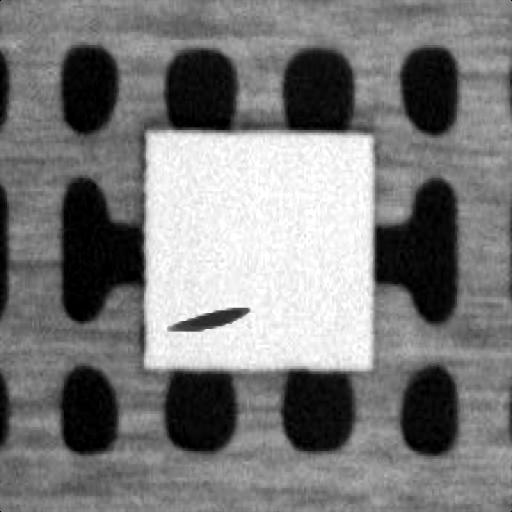DIE_INK: (165, 302, 247, 332)
